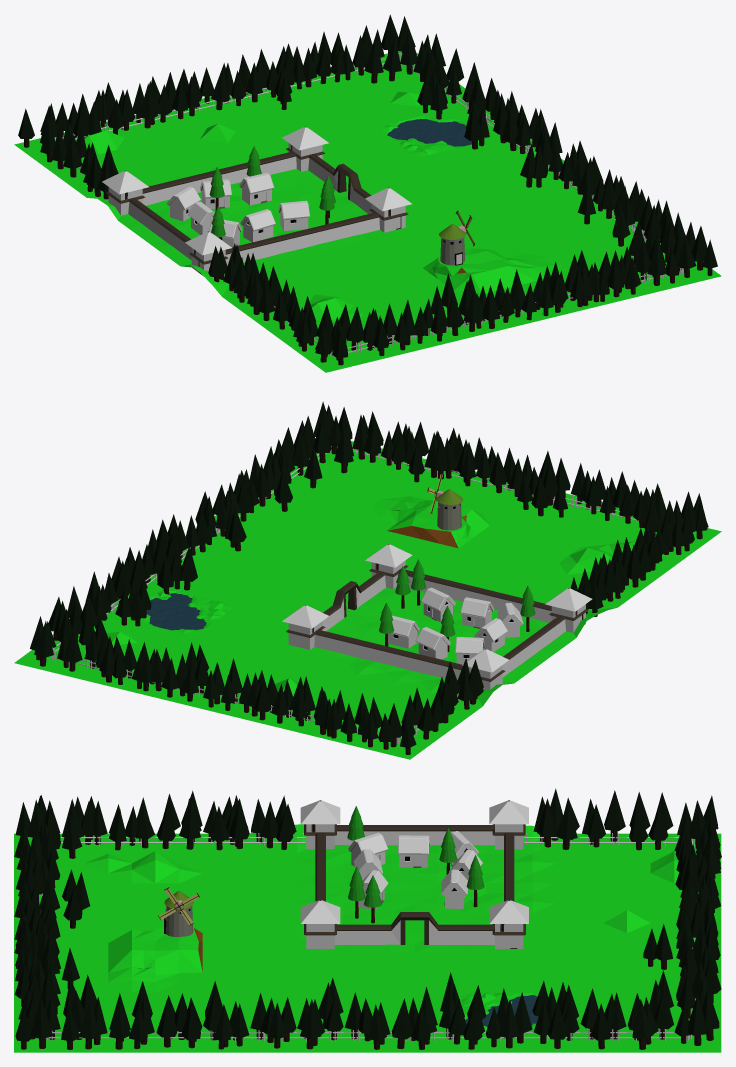
The model's file is oldpla.obj.
3 views of the same model, one above another, from view 1: azimuth 30°, elevation 25°; view 2: azimuth 150°, elevation 25°; view 3: azimuth 270°, elevation 25° (orthographic). The views are drawn at different scales.
Parts seen in each view (by area): view 1: FullSquare, Lake_ripples, CornerFort.001, CornerFort.003, CornerFort.002, CornerFort.004, Cube.051, Cube.053, Cube.054, WindmillBody, Cube.048, Cube.017 (+6 smaller); view 2: FullSquare, Lake_ripples, CornerFort.002, CornerFort.004, CornerFort.001, CornerFort.003, WindmillBody, Cube.051, Cube.049, Cube.054, Cube.053, Cube.002 (+7 smaller); view 3: FullSquare, CornerFort.001, CornerFort.002, CornerFort.003, CornerFort.004, Cube.038, Cube.050, Cube.035, Cube.033, WindmillBody, Cube.053, Cube.052 (+50 smaller).
Part boxes in pixels (box(x1,y1,x2,y2)): FullSquare: box(14, 51, 721, 372); Lake_ripples: box(387, 119, 471, 146); CornerFort.001: box(365, 187, 411, 232); CornerFort.003: box(102, 170, 148, 215); CornerFort.002: box(282, 126, 328, 171); CornerFort.004: box(185, 231, 231, 276); Cube.051: box(240, 209, 275, 242); Cube.053: box(239, 172, 274, 205); Cube.054: box(278, 200, 309, 231); WindmillBody: box(439, 224, 466, 265); Cube.048: box(166, 186, 200, 221); Cube.017: box(334, 214, 372, 239); FullSquare: box(14, 441, 721, 759); Lake_ripples: box(146, 593, 206, 630); CornerFort.002: box(282, 605, 328, 649); CornerFort.004: box(545, 588, 592, 632); CornerFort.001: box(365, 544, 412, 589); CornerFort.003: box(462, 649, 508, 690); WindmillBody: box(435, 489, 463, 530); Cube.051: box(460, 597, 494, 628); Cube.049: box(415, 627, 450, 659); Cube.054: box(420, 587, 455, 622); Cube.053: box(388, 615, 419, 648); Cube.002: box(393, 649, 432, 674); FullSquare: box(14, 824, 721, 1052); CornerFort.001: box(300, 900, 340, 948); CornerFort.002: box(489, 900, 528, 949); CornerFort.003: box(489, 800, 528, 849); CornerFort.004: box(300, 800, 340, 849); Cube.038: box(391, 912, 438, 944); Cube.050: box(398, 835, 429, 867); Cube.035: box(438, 924, 485, 944); Cube.033: box(344, 924, 391, 944); WindmillBody: box(164, 890, 193, 936); Cube.053: box(441, 869, 467, 908); Cube.052: box(348, 832, 388, 866).
Size of the model in its own units: 110 by 18.31 by 150.
